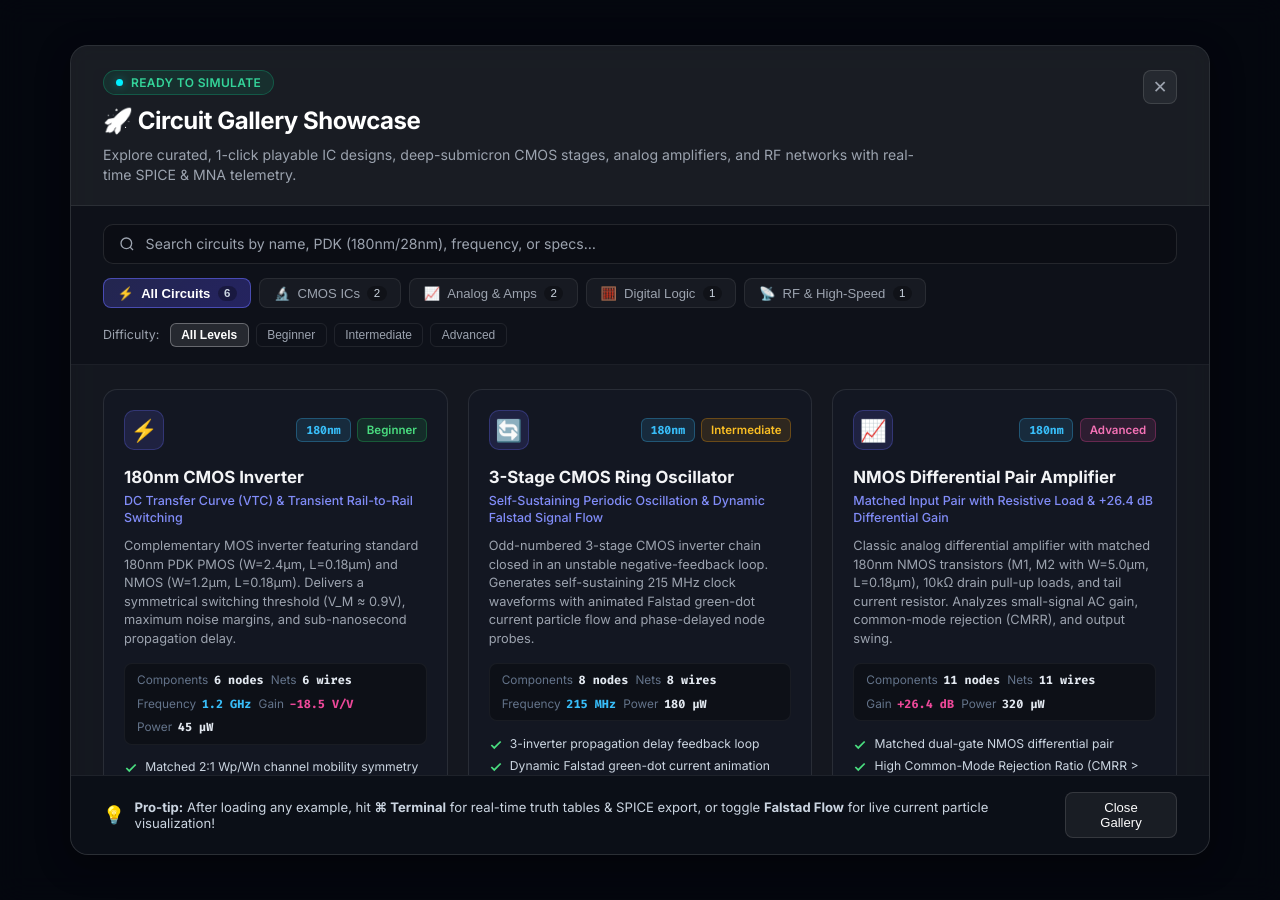
Test: CircuitGalleryModal › filters circuits via search input
Replace the text in the field with placeholder "Search circuits" with "differential" at (640, 244), box [103, 224, 1177, 264]
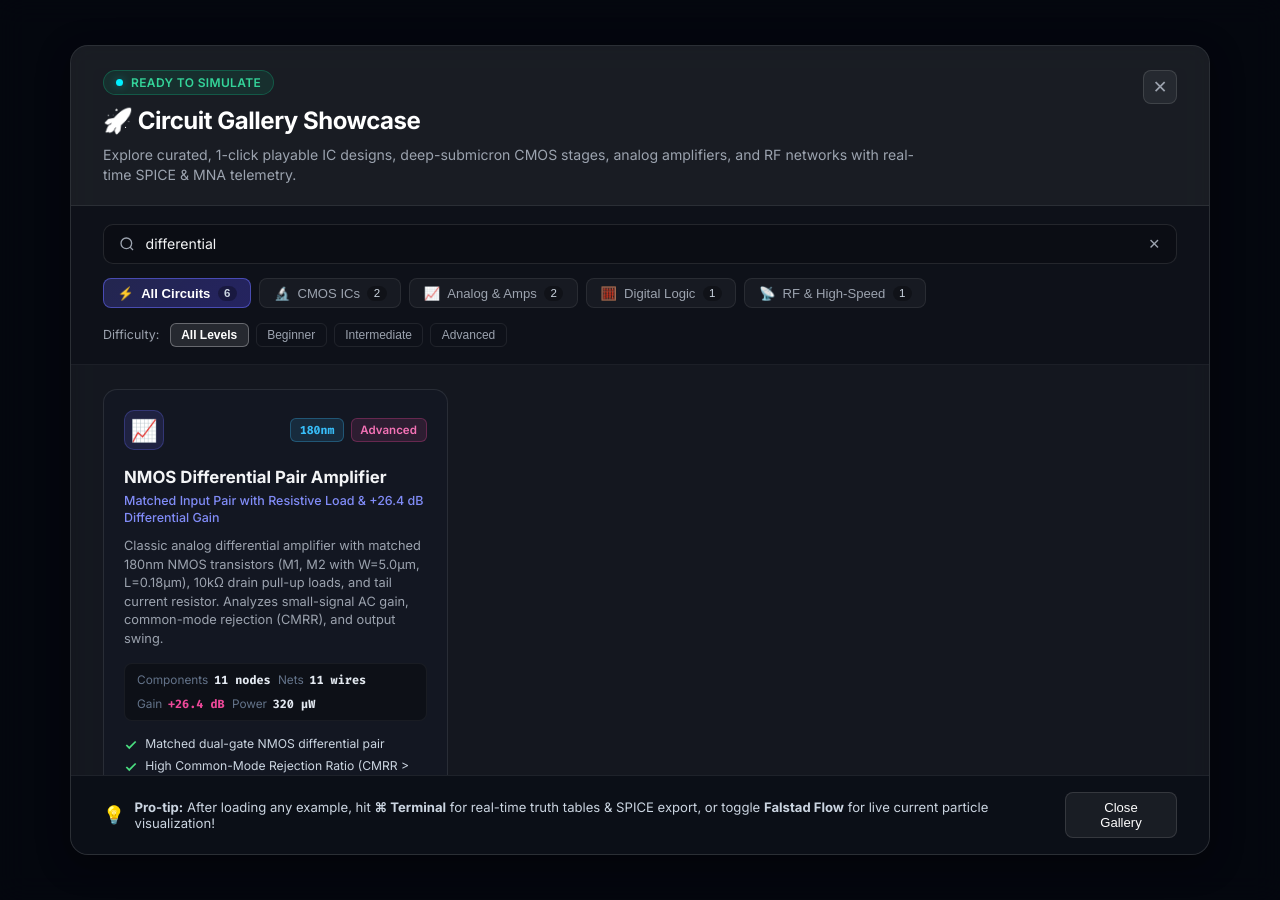
Expected: the heading "NMOS Differential Pair Amplifier" is shown, [124, 464, 427, 490]
Expected: the heading "180nm CMOS Inverter" is gone
Note: Clear search
Click the button named "clear search" at (1154, 244), box [1144, 232, 1164, 256]
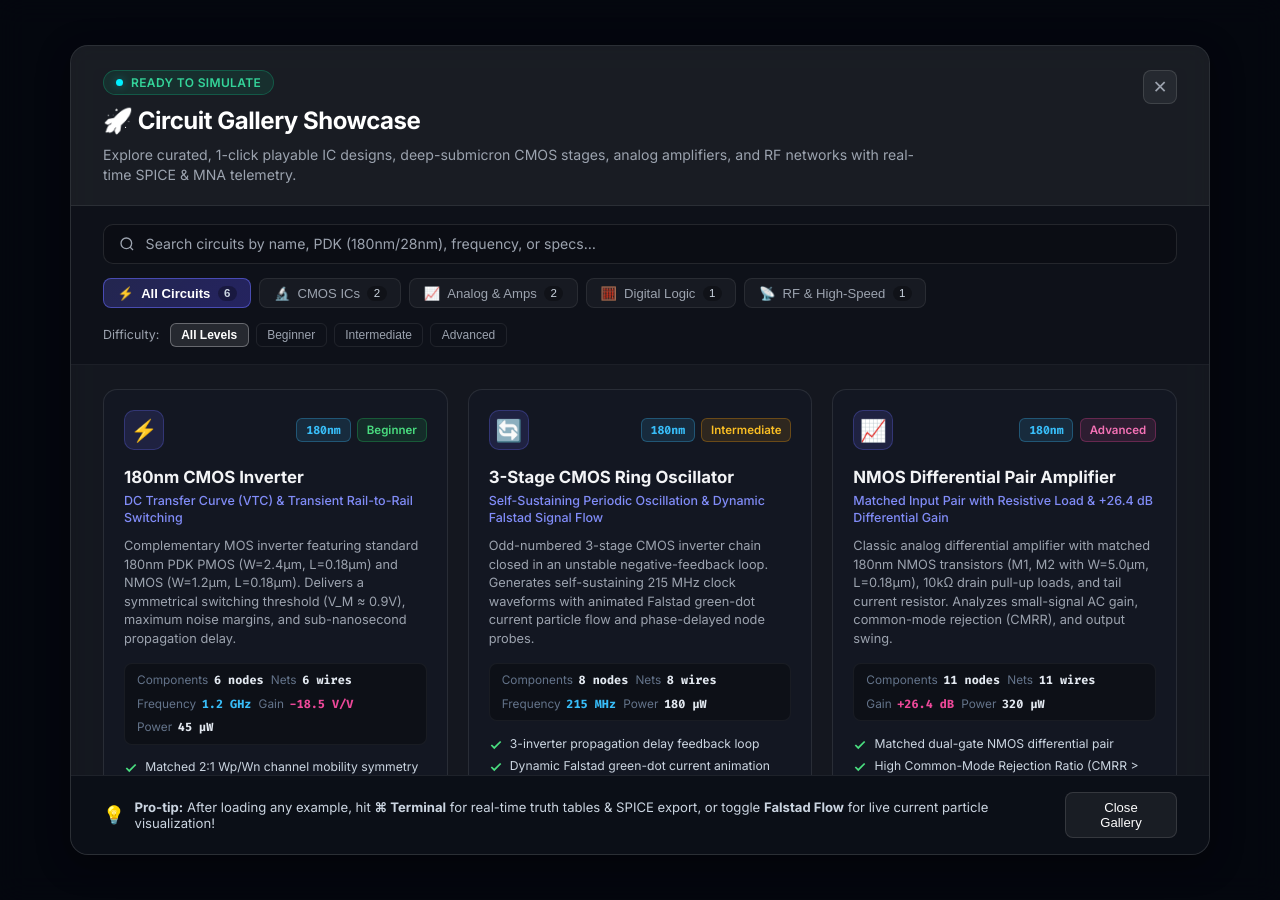
Expected: the heading "180nm CMOS Inverter" is shown, [124, 466, 304, 486]
